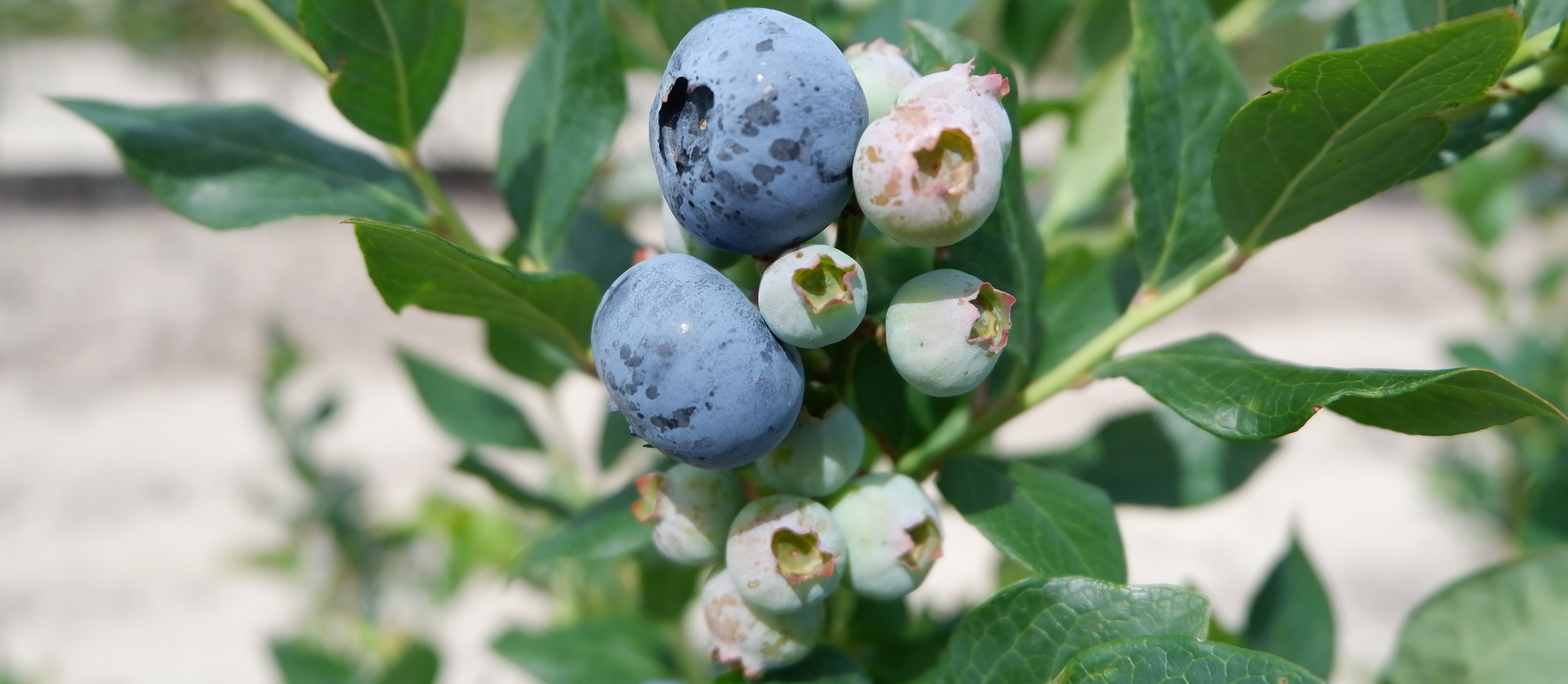Immature: (855, 98, 1004, 243), (887, 274, 1012, 392), (728, 499, 845, 612), (835, 477, 940, 596), (897, 53, 1013, 159), (705, 573, 820, 678), (637, 465, 746, 563), (759, 247, 867, 344), (756, 404, 862, 497), (846, 41, 912, 117)
Mature: (652, 13, 862, 253), (596, 255, 801, 467)
